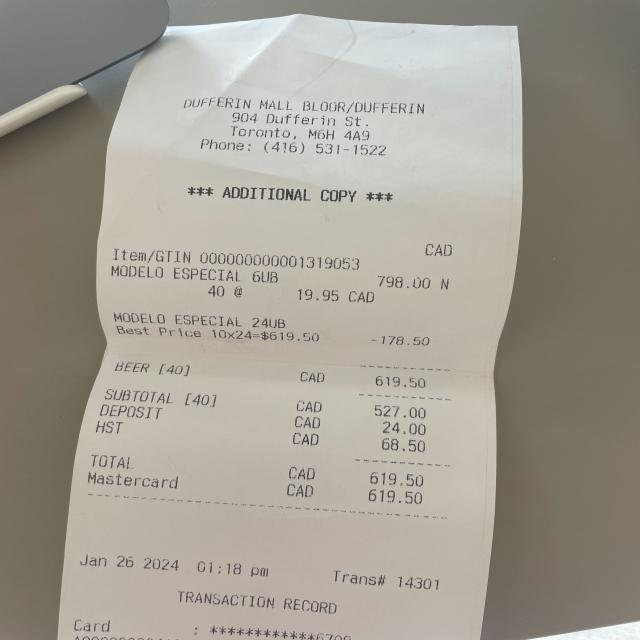item: (110, 359, 444, 390)
store_name: (177, 90, 439, 118)
total_amount: (87, 450, 439, 490)
